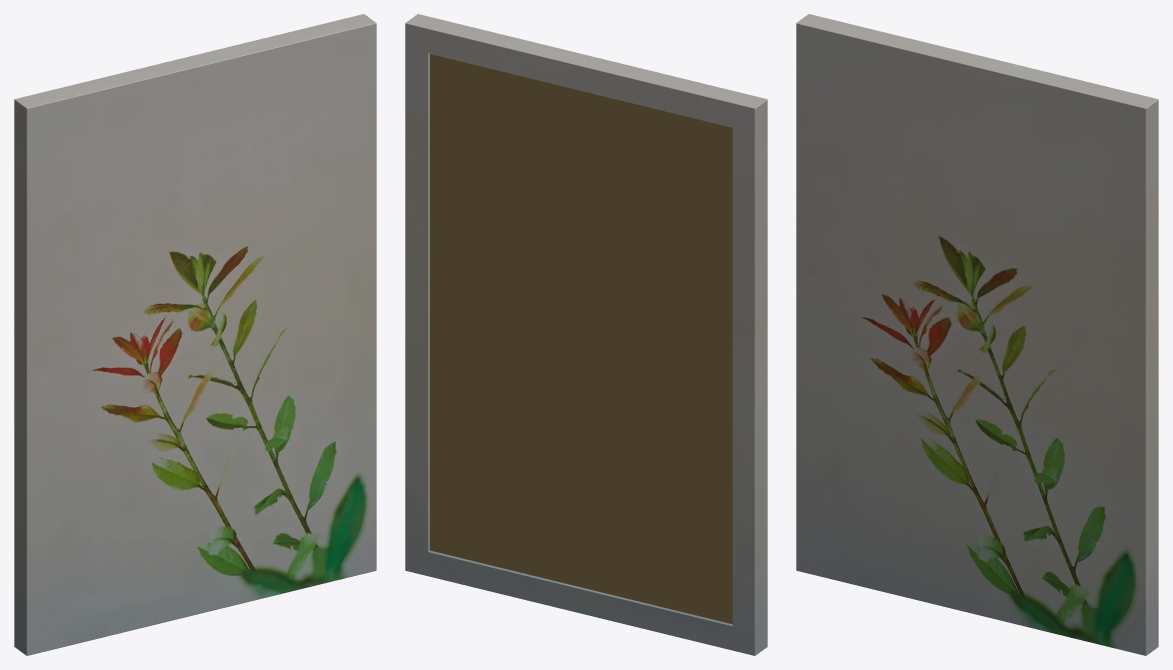
3 renders of one model, left to right at view 1: azimuth 30°, elevation 25°; view 2: azimuth 150°, elevation 25°; view 3: azimuth 330°, elevation 25°, orthographic.
Parts seen in each view (by area): view 1: RootNode; view 2: RootNode; view 3: RootNode.
Part boxes in pixels (x1,y1,x2,y2): RootNode: (14,14,376,655); RootNode: (405,14,767,655); RootNode: (796,14,1158,655).
Bounding box in the file's own units: 0.6121 × 0.9149 × 0.0389.
1 material, 1 textured.
